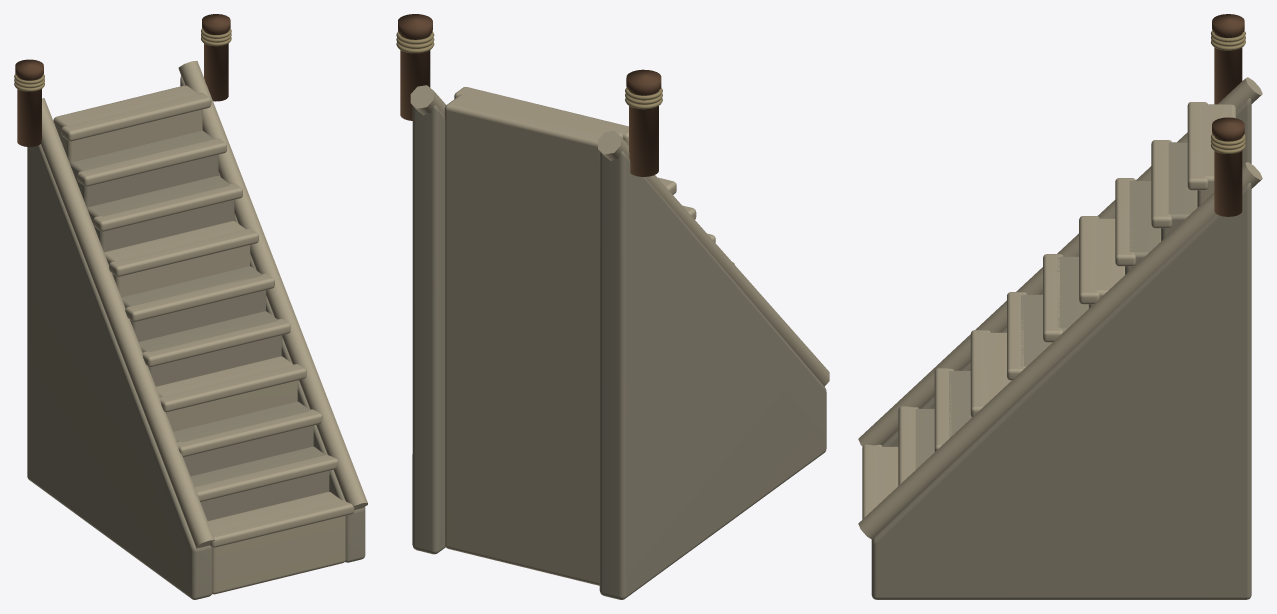
Rendered from quay_steps_atelier.glb.
3 renders of one model, left to right at view 1: azimuth 30°, elevation 25°; view 2: azimuth 150°, elevation 25°; view 3: azimuth 270°, elevation 25°, orthographic. The views are drawn at different scales.
Visible parts, largest first — view 1: quay_steps_atelier__TaggedPainted_quay_steps_atelier_Matte; view 2: quay_steps_atelier__TaggedPainted_quay_steps_atelier_Matte; view 3: quay_steps_atelier__TaggedPainted_quay_steps_atelier_Matte.
Part boxes in pixels (box(x1,y1,x2,y2)): quay_steps_atelier__TaggedPainted_quay_steps_atelier_Matte: box(14, 14, 367, 599); quay_steps_atelier__TaggedPainted_quay_steps_atelier_Matte: box(396, 14, 829, 599); quay_steps_atelier__TaggedPainted_quay_steps_atelier_Matte: box(858, 14, 1262, 599).
Bounding box in the file's own units: 2.4 × 4.57 × 3.47.
